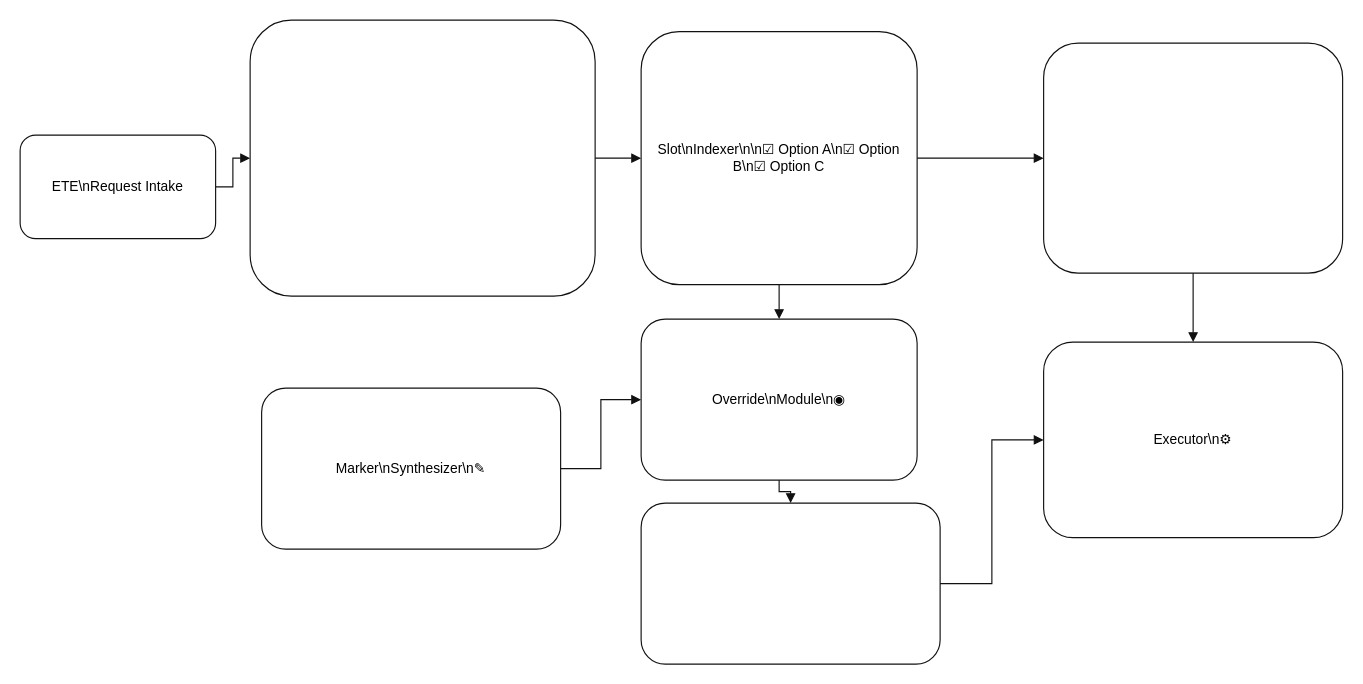
Some shapes in this 1363 by 684 pixel diagram are drawn without their labels. Here are the shapes that lost their labels. From the top down, the centre of each, then its label:
pixel 422 157: Signal Collectors\n• Identity\n• Approval\n• Telemetry\n• Context
pixel 1192 157: Executing\nPlan\n\n☑ Step 1\n☑ Step 2\n☑ Step 3
pixel 790 583: Drift &\nConflict Manager
